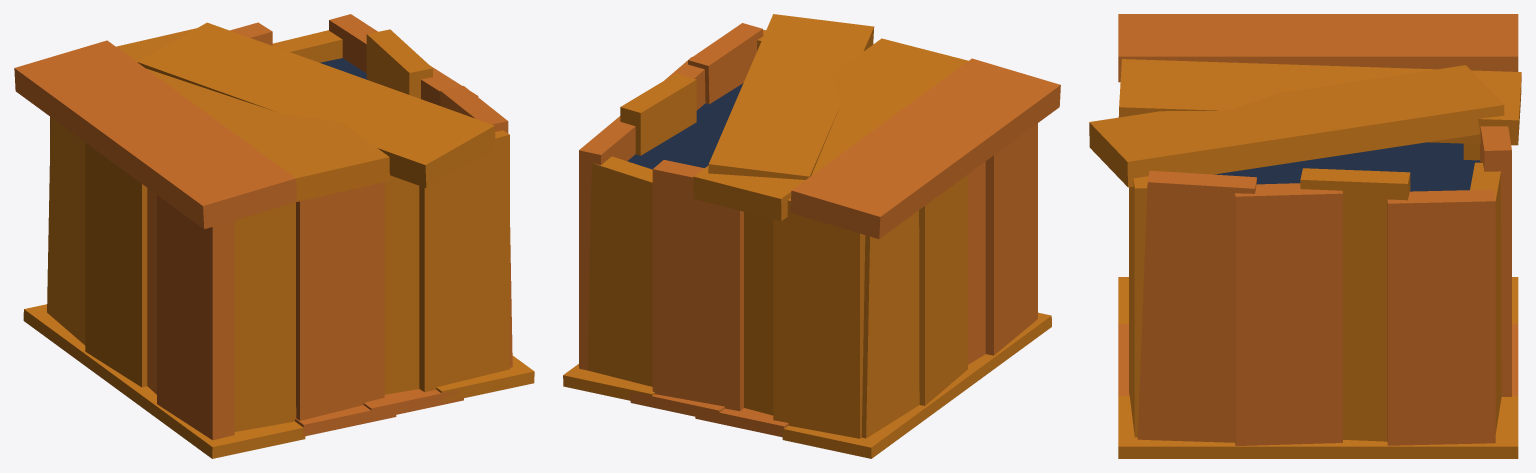
The model's file is ammo_power_up.fbx.
3 renders of one model, left to right at view 1: azimuth 30°, elevation 25°; view 2: azimuth 150°, elevation 25°; view 3: azimuth 270°, elevation 25°, orthographic. The views are drawn at different scales.
Visible parts, largest first — view 1: Cube.020, Cube.019, Cube.007, Cube.006, Cube.003, Cube.005, Cube.002, Cube.018, Cube.008, Cube.001, Cube.000, Cube.012 (+9 smaller); view 2: Cube.020, Cube.014, Cube.015, Cube.019, Cube.013, Cube.018, Cube.001, Cube.003, Cube.002, Cube.016, Cube.000, Cube.011 (+8 smaller); view 3: Cube.010, Cube.011, Cube.019, Cube.009, Cube.020, Cube.012, Cube.018, Cube.023, Cube, Cube.014, Cube.007, Cube.013 (+3 smaller).
Boxes of the visible parts, x1,y1,x2,y2 form: Cube.020: (14, 40, 296, 229); Cube.019: (137, 22, 495, 188); Cube.007: (419, 130, 509, 392); Cube.006: (296, 182, 384, 420); Cube.003: (157, 195, 234, 440); Cube.005: (234, 202, 296, 431); Cube.002: (85, 142, 147, 387); Cube.018: (116, 28, 389, 201); Cube.008: (384, 175, 419, 394); Cube.001: (47, 117, 85, 345); Cube.000: (23, 304, 305, 458); Cube.012: (366, 29, 432, 98); Cube.020: (790, 58, 1060, 238); Cube.014: (652, 160, 743, 411); Cube.015: (773, 198, 865, 438); Cube.019: (708, 14, 874, 179); Cube.013: (587, 156, 652, 386); Cube.018: (693, 38, 968, 221); Cube.001: (861, 210, 919, 438); Cube.003: (985, 123, 1037, 355); Cube.002: (919, 174, 967, 405); Cube.016: (744, 212, 773, 415); Cube.000: (782, 312, 1051, 458); Cube.011: (579, 116, 635, 370); Cube.010: (1235, 183, 1342, 445); Cube.011: (1387, 189, 1495, 445); Cube.019: (1089, 65, 1504, 187); Cube.009: (1137, 170, 1256, 442); Cube.020: (1118, 14, 1518, 82); Cube.012: (1300, 168, 1410, 441); Cube.018: (1118, 59, 1521, 145); Cube.023: (1118, 395, 1518, 458); Cube: (1214, 142, 1480, 191); Cube.014: (1480, 126, 1511, 396); Cube.007: (1129, 176, 1148, 437); Cube.013: (1470, 162, 1501, 433).
Size of the model in its own units: 203 by 154 by 216.
